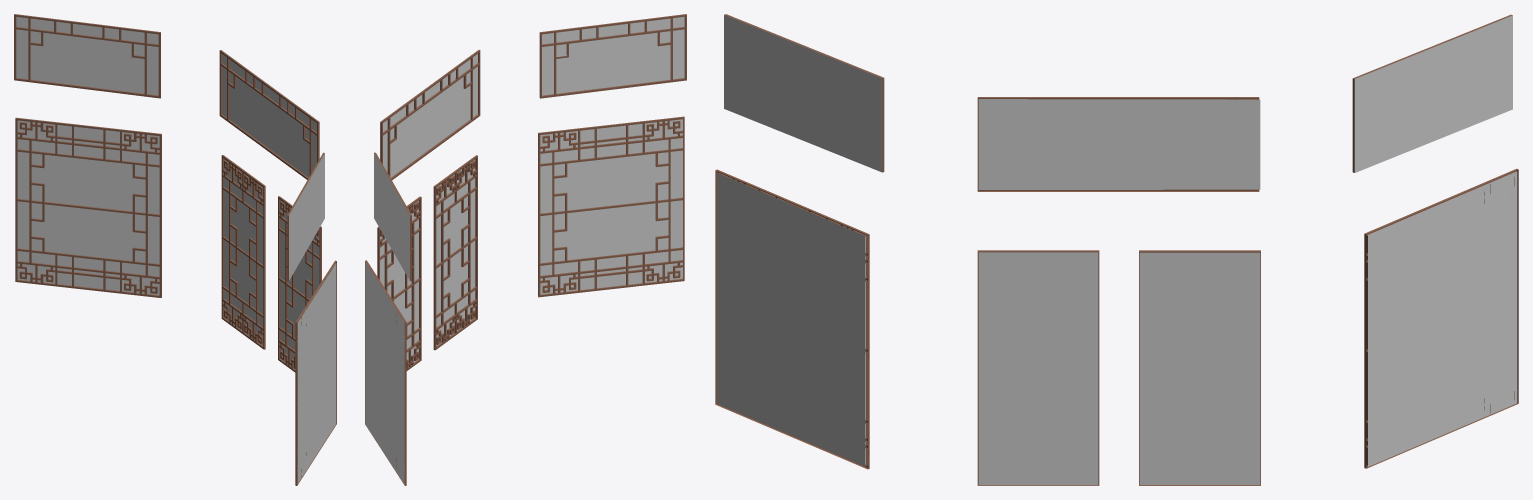
Rendered from KitchenWindows.fbx.
3 views of the same model, side by side, from view 1: azimuth 30°, elevation 25°; view 2: azimuth 150°, elevation 25°; view 3: azimuth 270°, elevation 25° (orthographic). The views are drawn at different scales.
Visible parts, largest first — view 1: Window_Patterns; view 2: Window_Patterns; view 3: Window_Patterns.
Boxes of the visible parts, x1,y1,x2,y2 form: Window_Patterns: [14, 14, 336, 485]; Window_Patterns: [365, 14, 686, 485]; Window_Patterns: [715, 14, 1518, 485].
Size of the model in its own units: 57.5 by 121 by 228.
